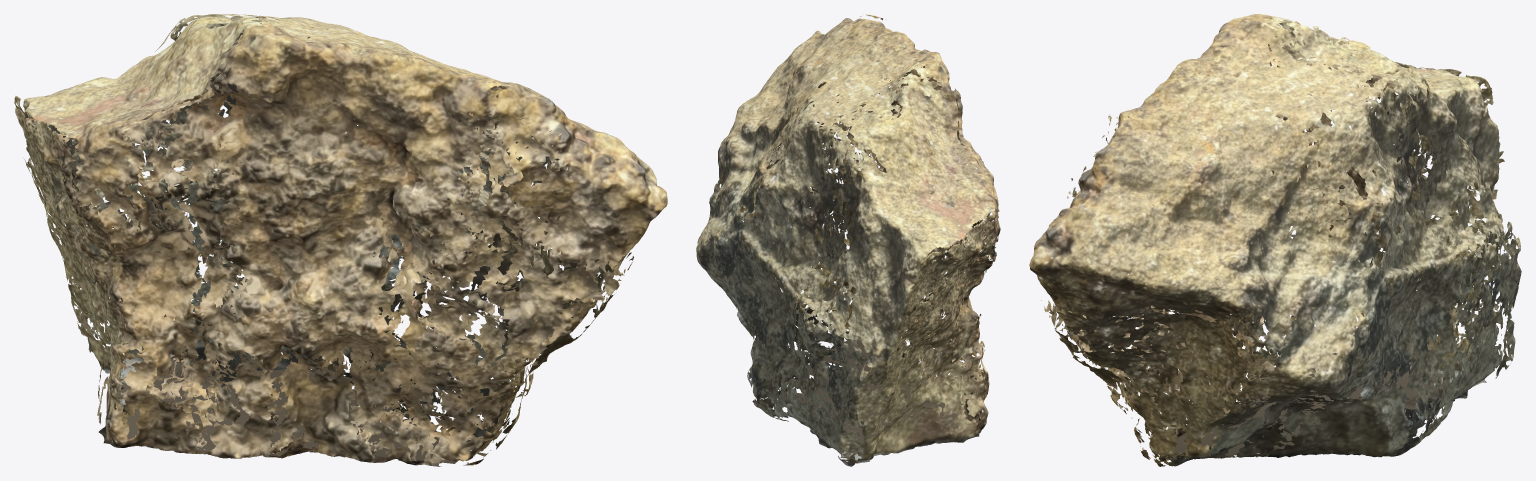
Rendered from testStone.glb.
3 views of the same model, side by side, from view 1: azimuth 30°, elevation 25°; view 2: azimuth 150°, elevation 25°; view 3: azimuth 270°, elevation 25° (orthographic). The views are drawn at different scales.
Visible parts, largest first — view 1: model; view 2: model; view 3: model.
Part boxes in pixels (left/top/right/bottom): model: left=14, top=14, right=667, bottom=466; model: left=696, top=14, right=1000, bottom=466; model: left=1029, top=14, right=1521, bottom=466.
Size of the model in its own units: 2472 by 2286 by 2714.
Materials: 1 (1 with a texture image).
